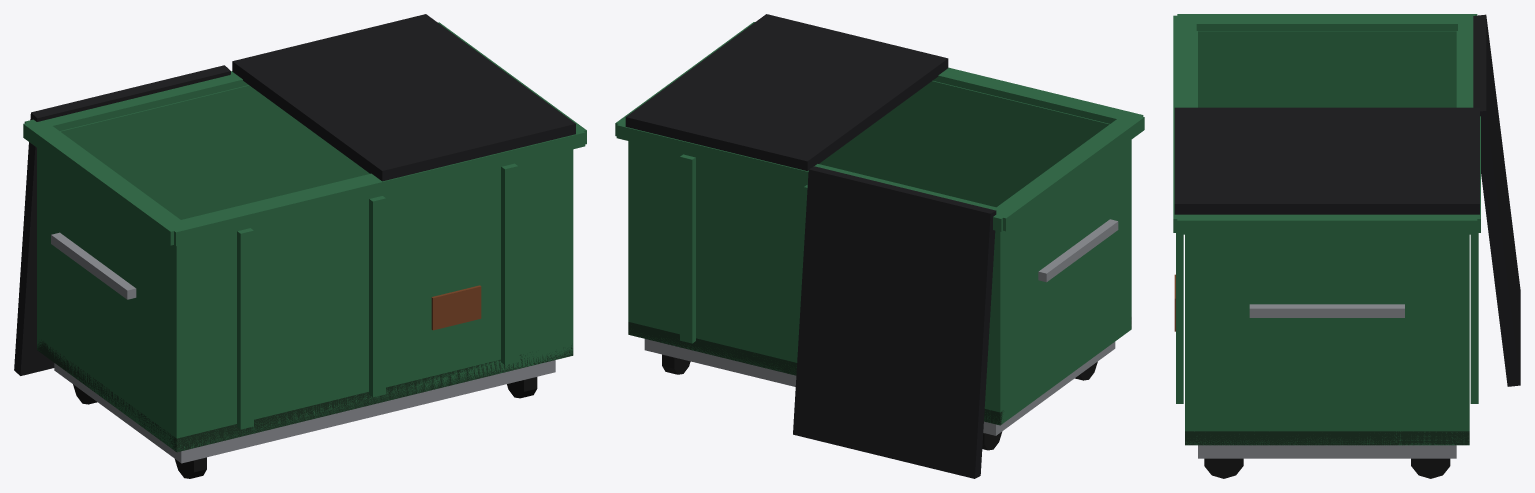
Rendered from dumpster.glb.
3 views of the same model, side by side, from view 1: azimuth 30°, elevation 25°; view 2: azimuth 150°, elevation 25°; view 3: azimuth 270°, elevation 25° (orthographic). The views are drawn at different scales.
Parts seen in each view (by area): view 1: dumpster_body, dumpster_lid_shut, dumpster_lid_open, dumpster_wheels; view 2: dumpster_body, dumpster_lid_open, dumpster_lid_shut, dumpster_wheels; view 3: dumpster_body, dumpster_lid_shut, dumpster_lid_open, dumpster_wheels.
Boxes of the visible parts, x1=… form: dumpster_body: x1=23, y1=22, x2=586, y2=463; dumpster_lid_shut: x1=232, y1=14, x2=575, y2=181; dumpster_lid_open: x1=14, y1=65, x2=230, y2=375; dumpster_wheels: x1=73, y1=377, x2=537, y2=478; dumpster_body: x1=615, y1=22, x2=1144, y2=435; dumpster_lid_open: x1=793, y1=166, x2=996, y2=478; dumpster_lid_shut: x1=625, y1=14, x2=948, y2=170; dumpster_wheels: x1=662, y1=354, x2=1097, y2=450; dumpster_body: x1=1173, y1=14, x2=1480, y2=458; dumpster_lid_shut: x1=1174, y1=107, x2=1479, y2=214; dumpster_lid_open: x1=1473, y1=14, x2=1520, y2=386; dumpster_wheels: x1=1204, y1=458, x2=1450, y2=478.
Size of the model in its own units: 1.96 by 1.23 by 1.34.
